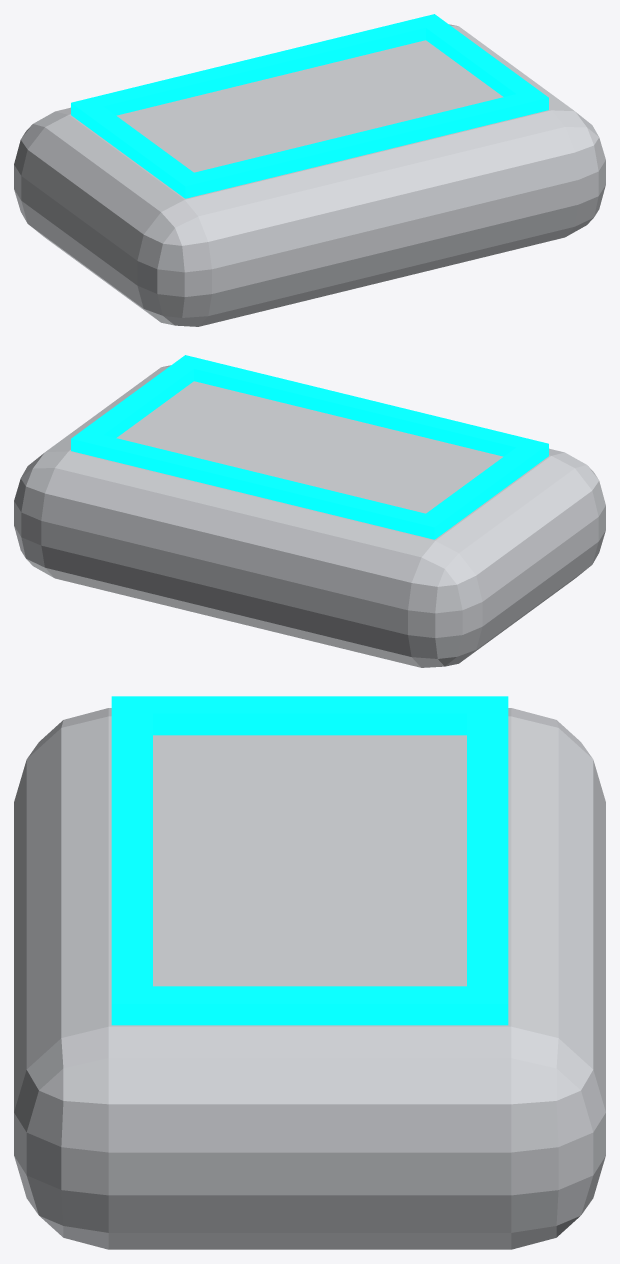
File: token-chip.glb
3 renders of one model, top to bottom at view 1: azimuth 30°, elevation 25°; view 2: azimuth 150°, elevation 25°; view 3: azimuth 270°, elevation 25°, orthographic. The views are drawn at different scales.
Visible parts, largest first — view 1: TokenChip, Rim_B, Rim_T, Rim_L, Rim_R; view 2: TokenChip, Rim_T, Rim_B, Rim_L, Rim_R; view 3: TokenChip, Rim_R, Rim_B, Rim_L, Rim_T.
Boxes of the visible parts, x1,y1,x2,y2 form: TokenChip: [14, 24, 605, 326]; Rim_B: [173, 92, 548, 198]; Rim_T: [71, 14, 445, 123]; Rim_L: [71, 100, 205, 198]; Rim_R: [414, 14, 548, 114]; TokenChip: [14, 365, 605, 667]; Rim_T: [71, 430, 445, 538]; Rim_B: [173, 355, 548, 464]; Rim_L: [414, 438, 548, 539]; Rim_R: [71, 355, 205, 454]; TokenChip: [14, 708, 605, 1249]; Rim_R: [112, 986, 508, 1025]; Rim_B: [111, 696, 152, 1025]; Rim_L: [111, 696, 508, 735]; Rim_T: [467, 696, 508, 1025].
Size of the model in its own units: 0.78 by 0.22 by 0.5.
